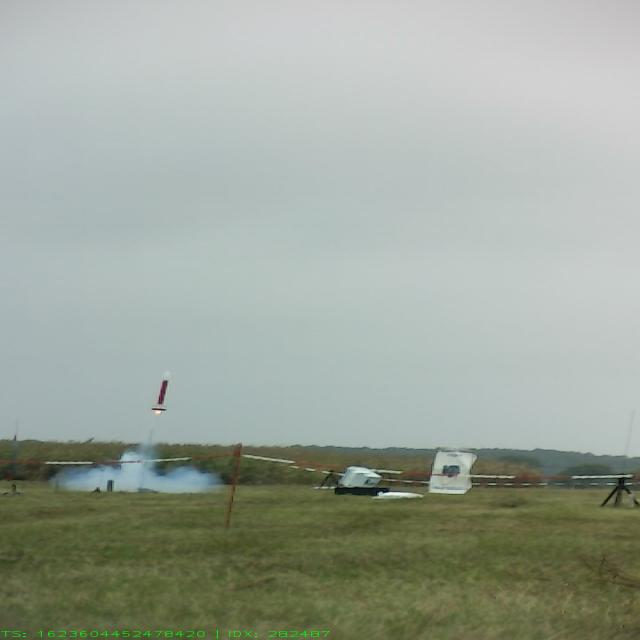Rocket: (151, 371, 171, 412)
